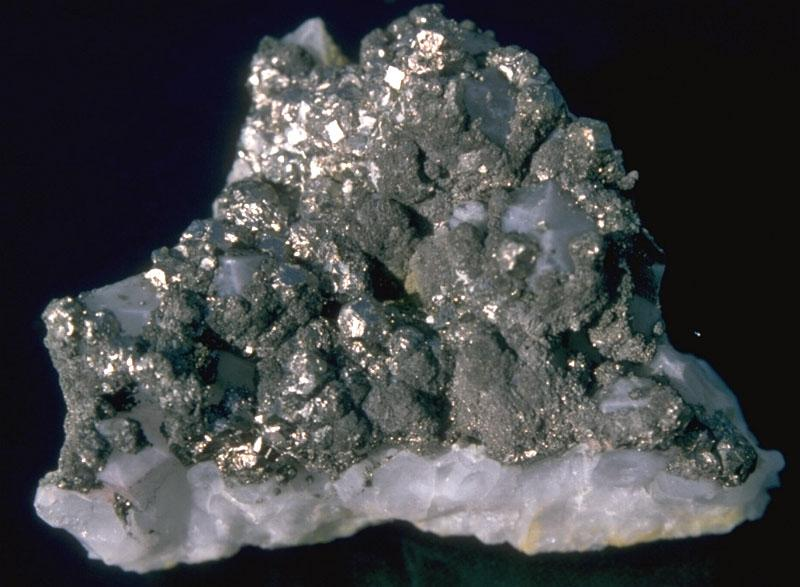prehnite: (34, 341, 786, 574), (502, 180, 596, 276), (82, 276, 157, 335), (464, 67, 516, 146), (281, 17, 349, 64), (216, 257, 258, 296), (449, 200, 488, 229)
